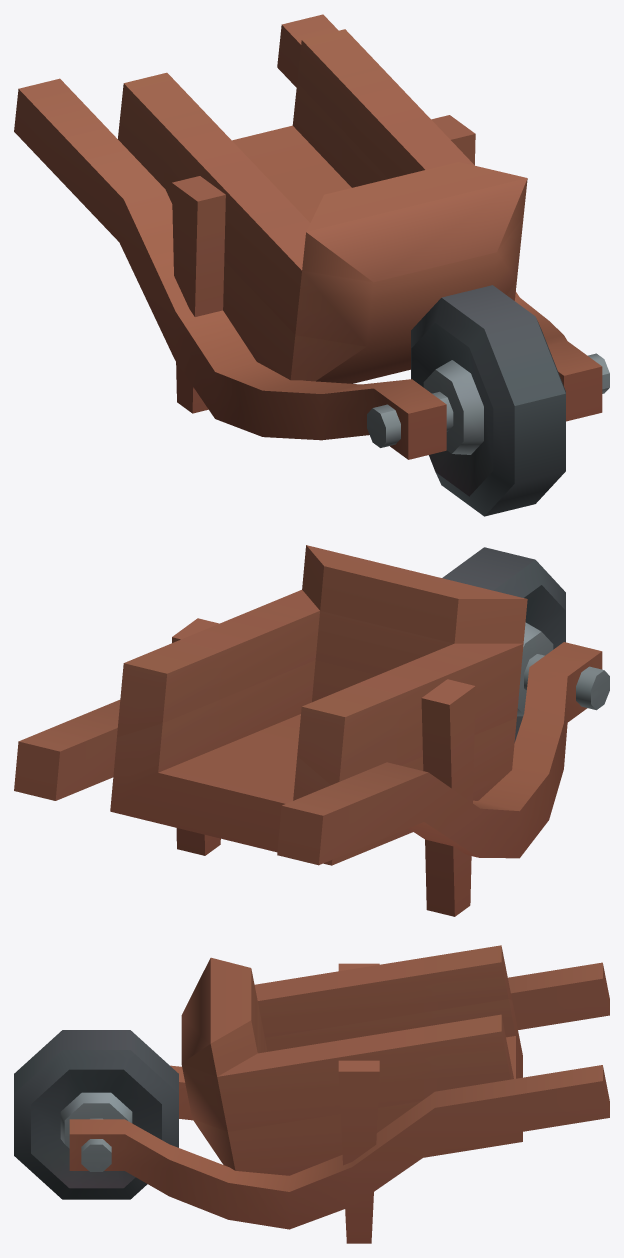
Rendered from wheelbarrow.glb.
The picture shows the model from 3 angles, top to bottom: view 1: azimuth 30°, elevation 25°; view 2: azimuth 150°, elevation 25°; view 3: azimuth 270°, elevation 25°; orthographic projection. The views are drawn at different scales.
Visible parts, largest first — view 1: wheelbarrow; view 2: wheelbarrow; view 3: wheelbarrow.
Part boxes in pixels (x1,y1,x2,y2): wheelbarrow: (14, 14, 609, 516); wheelbarrow: (14, 545, 609, 916); wheelbarrow: (14, 945, 609, 1243).
Size of the model in its own units: 0.238 by 0.1884 by 0.5057.
1 material, 1 textured.
